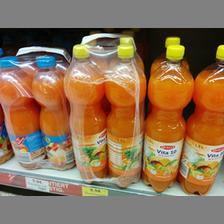Saft: (140, 41, 194, 192), (176, 42, 224, 194), (103, 43, 147, 187), (64, 43, 108, 183), (30, 55, 74, 170), (0, 54, 44, 168)
